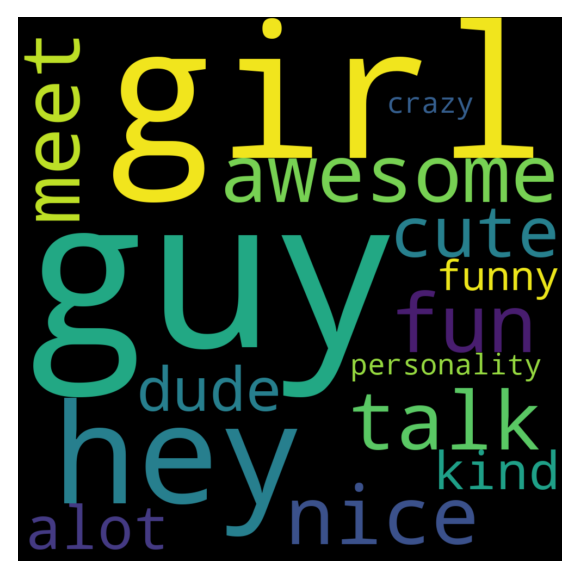

Layout of this report page (visuals, bound fields, positions):
{"tool":"tableau","page":{"name":"Dashboard 1","canvas":[1000,800],"ordinal":0},"visuals":[{"type":"worksheet","title":"Topics","mark":"Automatic","box":[74,14,886,777]},{"type":"worksheet","title":"Topics","mark":"Automatic","param":"[federated.0f70d2m07pqro519ml5wd1i6v16a].[none:type:nk]","box":[10,18,72,40]}]}

Visuals, with their boxes in screenshot pixels (x1, y1, x2, y2):
"Topics" worksheet: 17,15,561,491
"Topics" worksheet: 0,17,22,42
